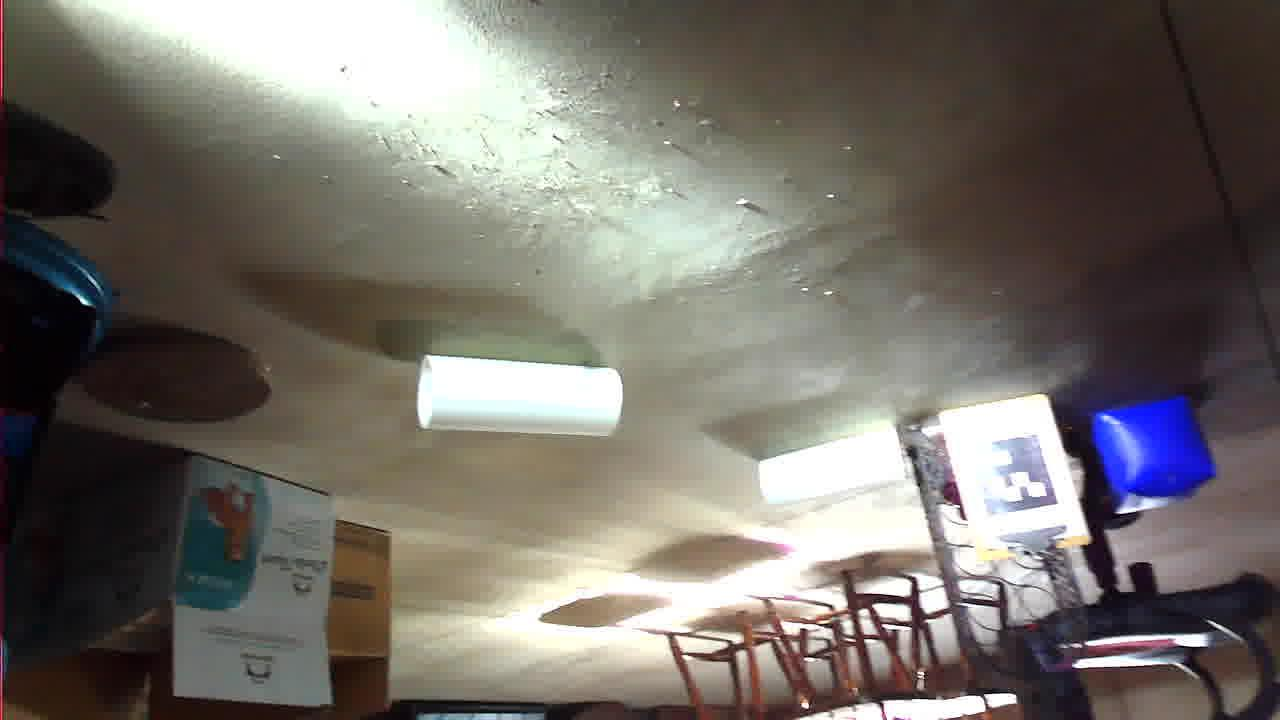coral: (657, 284, 862, 367), (377, 216, 521, 292)
